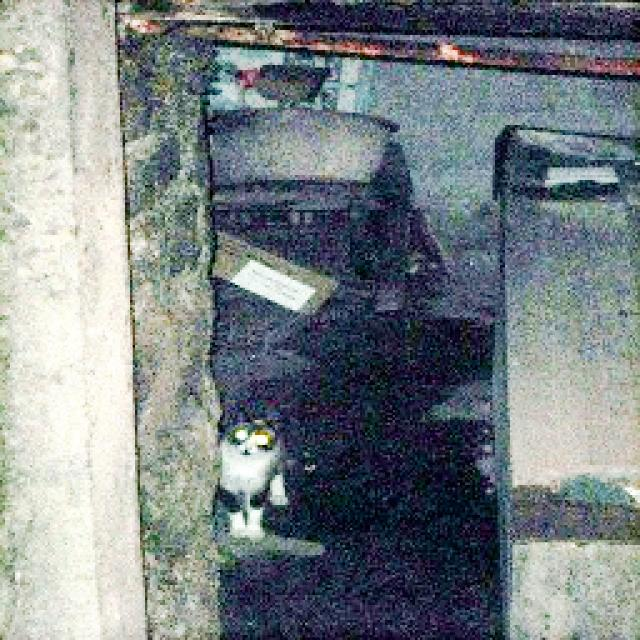cat: (206, 376, 298, 556)
